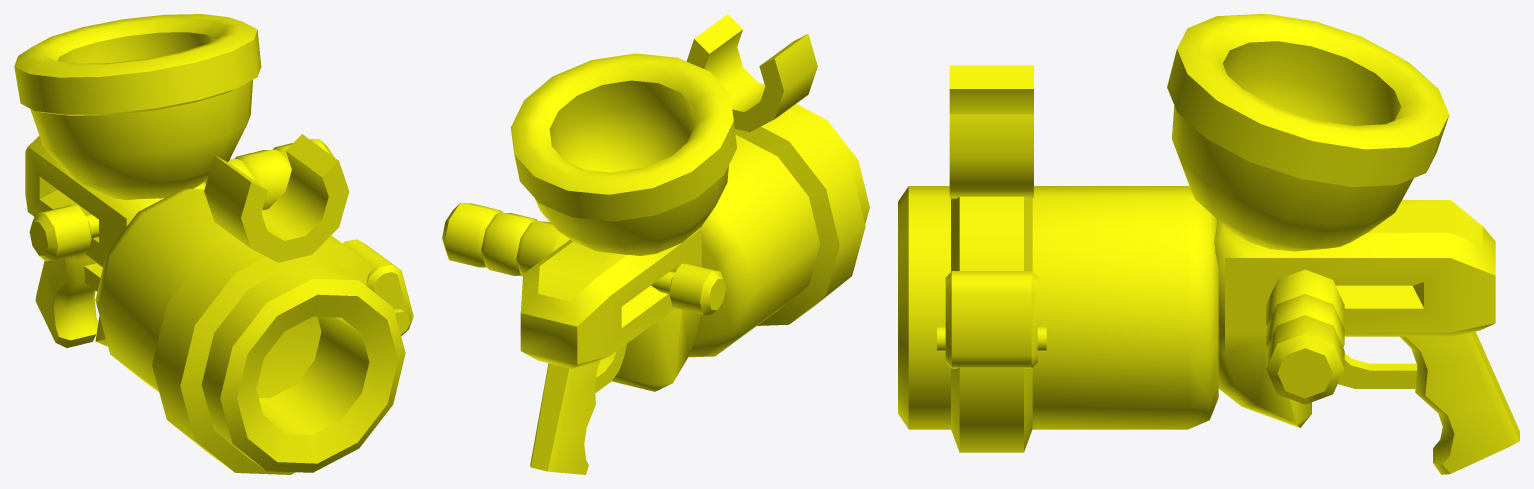
The model's file is kaykit-snowball-cannon.glb.
3 views of the same model, side by side, from view 1: azimuth 30°, elevation 25°; view 2: azimuth 150°, elevation 25°; view 3: azimuth 270°, elevation 25° (orthographic). The views are drawn at different scales.
Parts seen in each view (by area): view 1: snowball_cannon; view 2: snowball_cannon; view 3: snowball_cannon.
Part boxes in pixels (bbox=[...]): snowball_cannon: bbox=[14, 14, 413, 474]; snowball_cannon: bbox=[442, 14, 869, 474]; snowball_cannon: bbox=[898, 14, 1519, 474].
Size of the model in its own units: 0.6016 by 0.714 by 0.9509.
